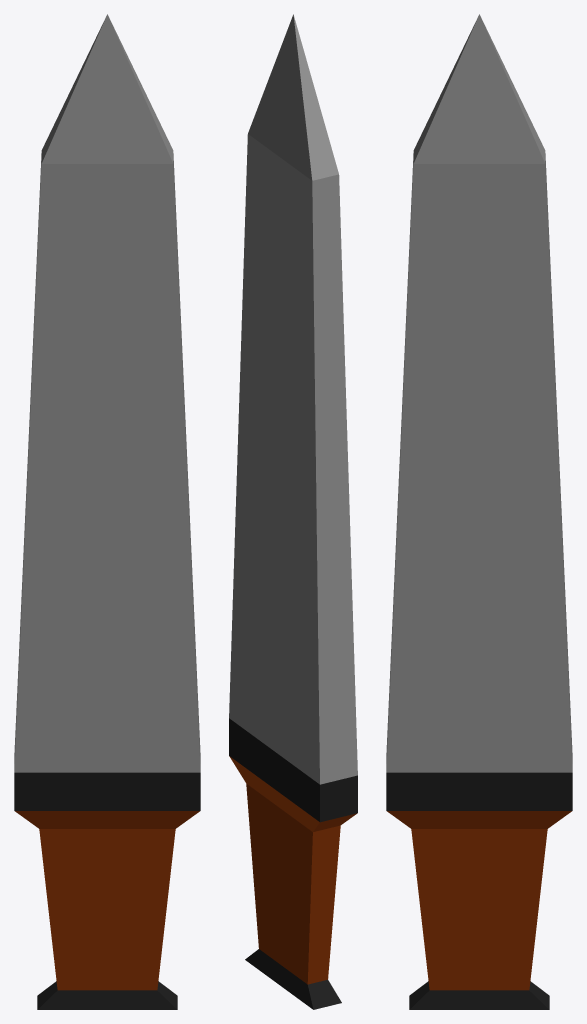
Rendered from sword.obj.
3 views of the same model, side by side, from view 1: azimuth 90°, elevation 25°; view 2: azimuth 210°, elevation 25°; view 3: azimuth 270°, elevation 25° (orthographic). The views are drawn at different scales.
Parts seen in each view (by area): view 1: sword; view 2: sword; view 3: sword.
Part boxes in pixels (<box>): sword: <box>14,14,200,1009</box>; sword: <box>229,14,357,1009</box>; sword: <box>386,14,572,1009</box>.
Bounding box in the file's own units: 0.0103 × 0.251 × 0.0428.
